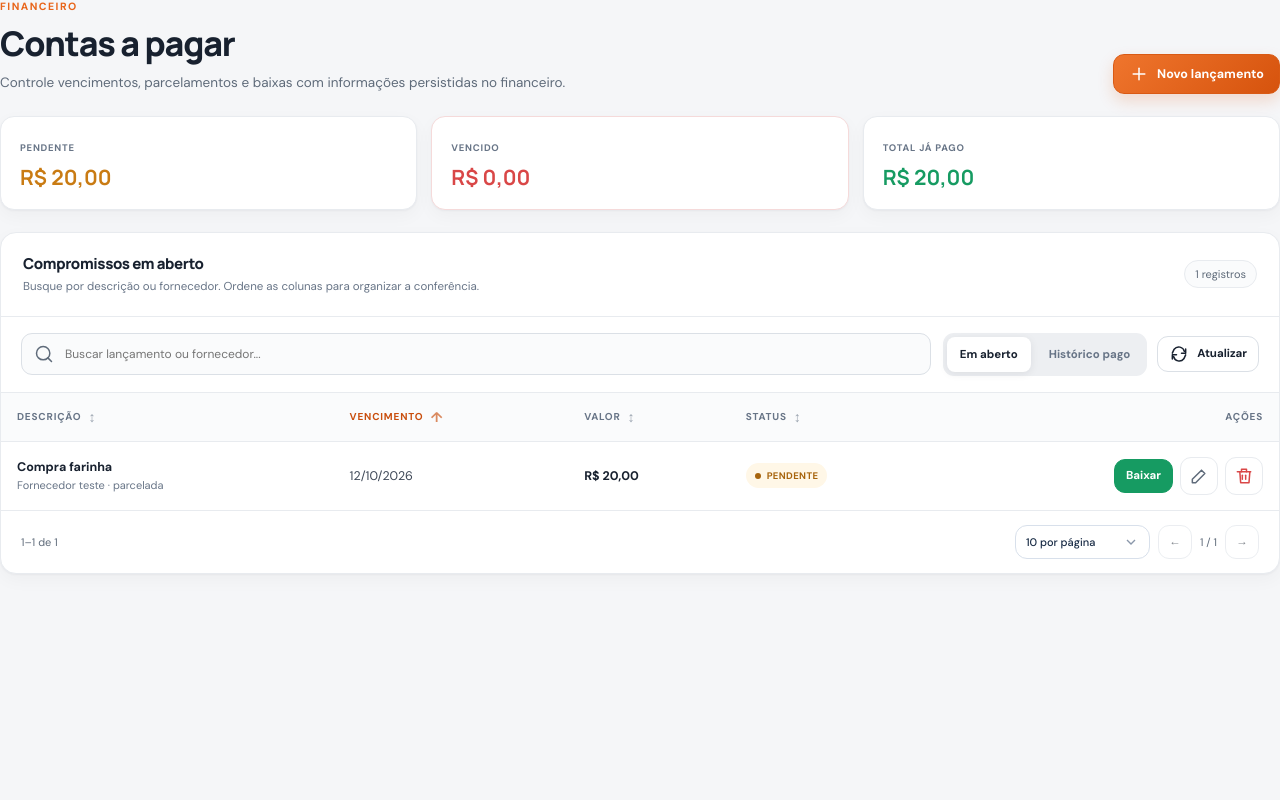
Test: falha de pagamento permanece visível dentro do diálogo
expect the text "Compra farinha" is shown: met, box [17,459,112,475]
Click the button "Baixar" at point(1143, 476), box [1114,459,1173,493]
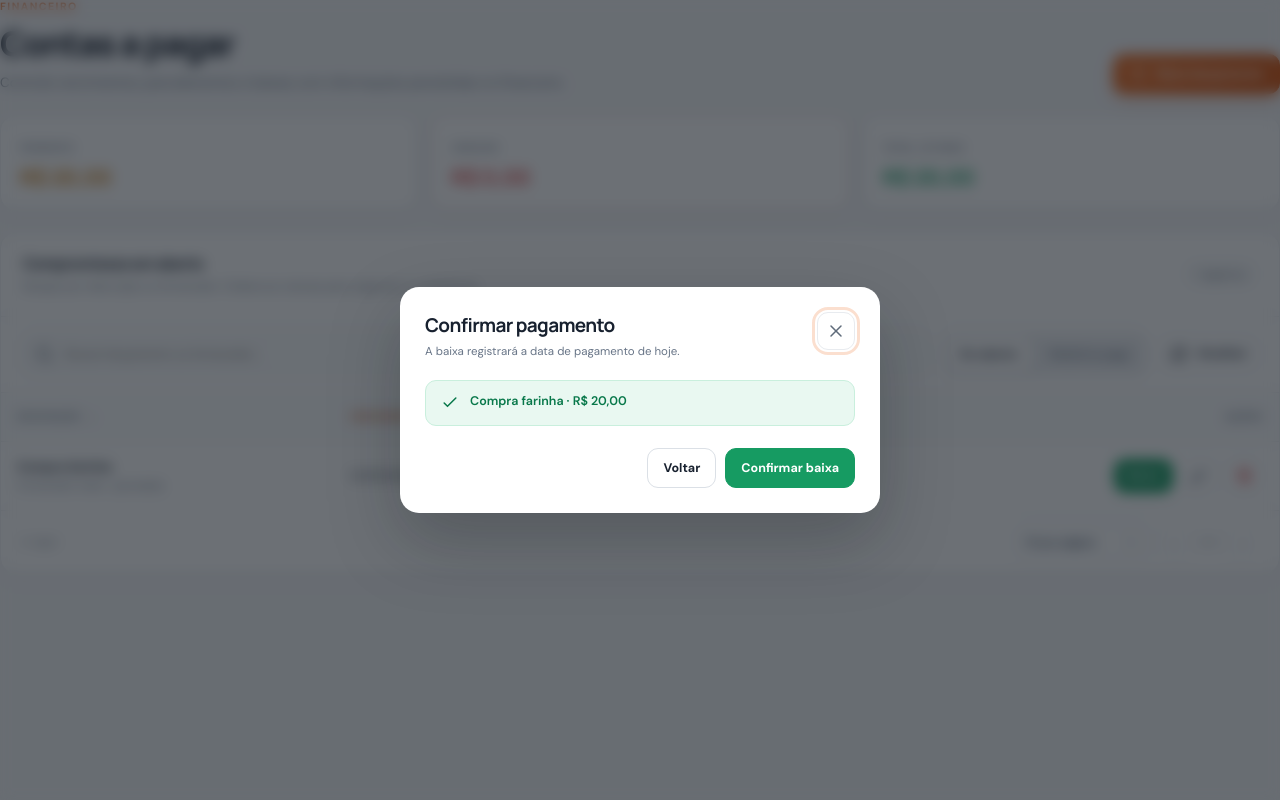
Click the button "Confirmar baixa" at point(790, 468), box [725,448,855,488]
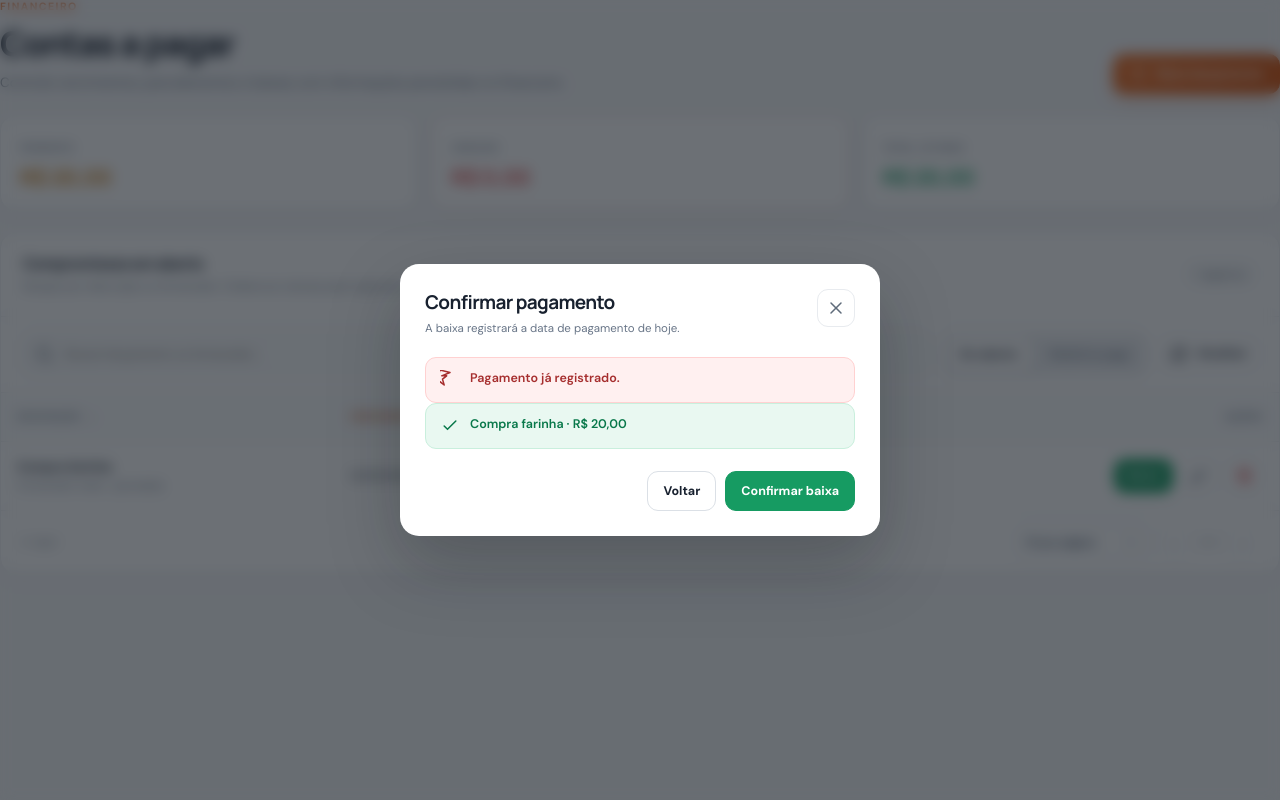
expect the button "Confirmar baixa" is enabled: met, box [725,471,855,511]
expect the message reads "Pagamento já registrado.": met, box [470,370,620,386]
